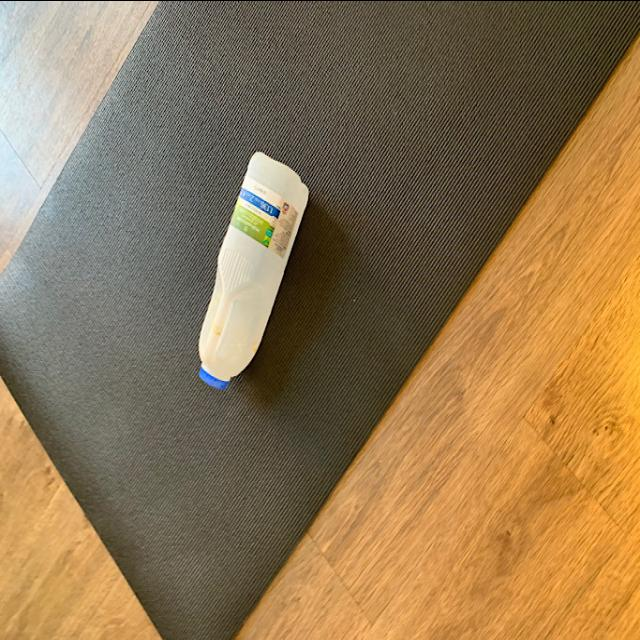HDPEM: (193, 152, 319, 388)
